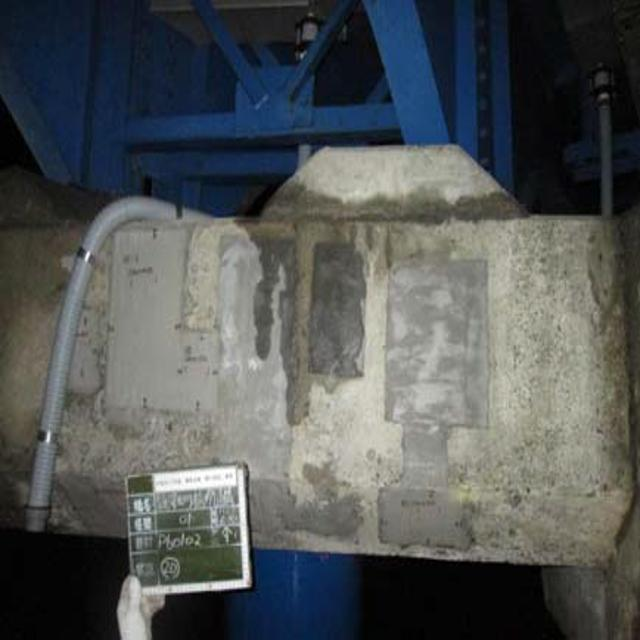leakage: (242, 194, 364, 407), (387, 183, 530, 230)
